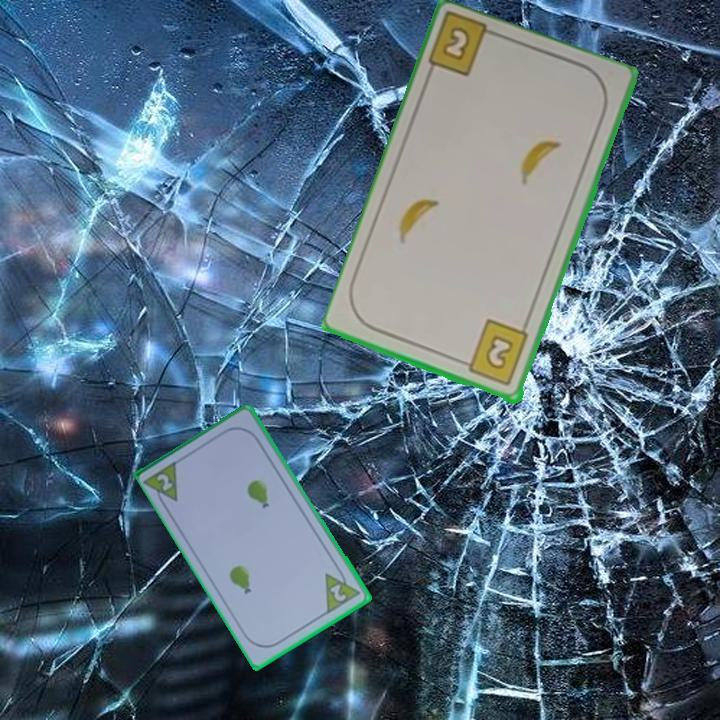2b: (457, 317, 532, 389), (439, 23, 474, 65)
2p: (321, 563, 364, 617), (153, 470, 176, 494)
